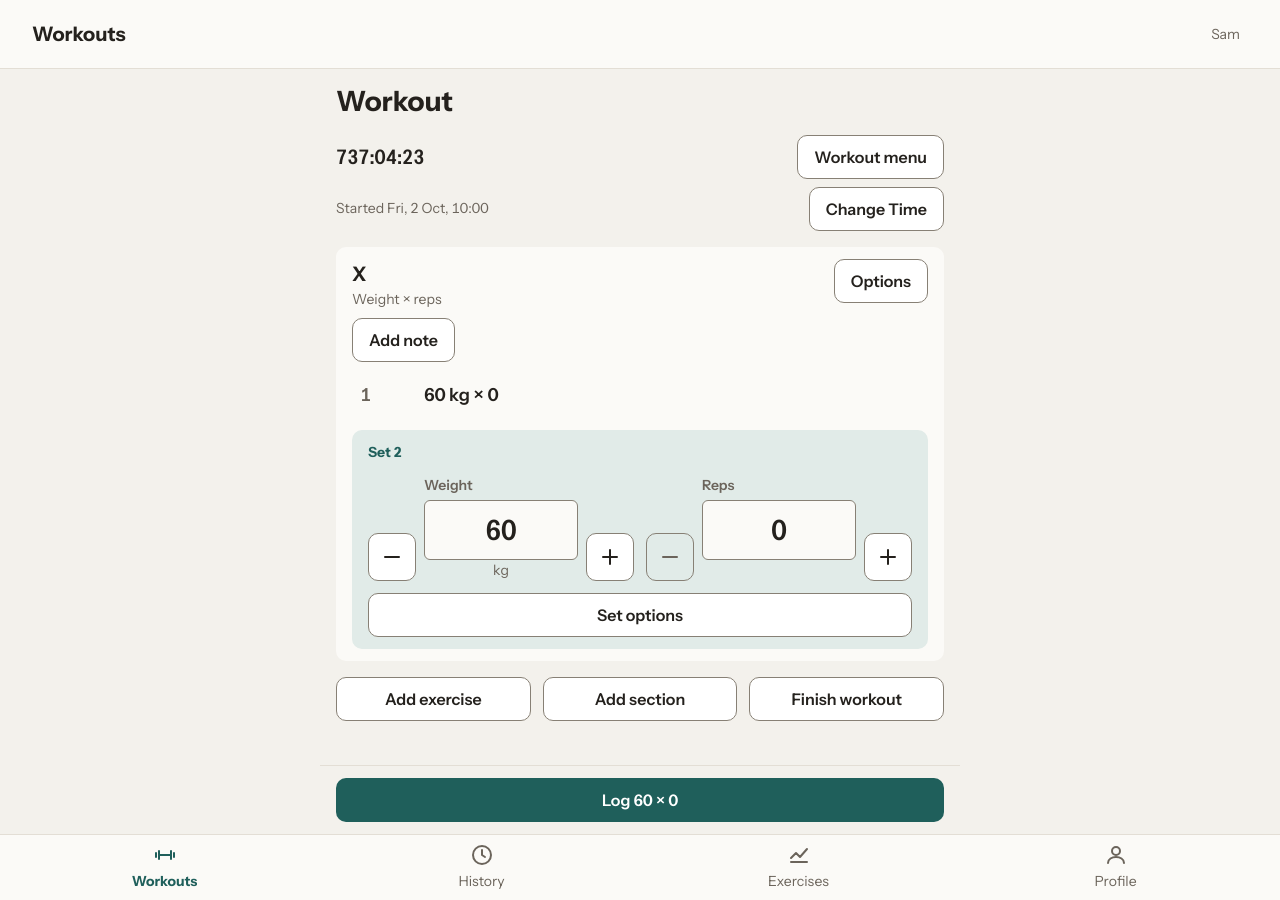
Test: AC27 — 409 incomplete-working-sets › a set with reps: 0 is never flagged
Check: the heading "Workout" is shown, box [336,84,453,118]
Click the button "Finish workout": (847, 699) [749,677,944,721]
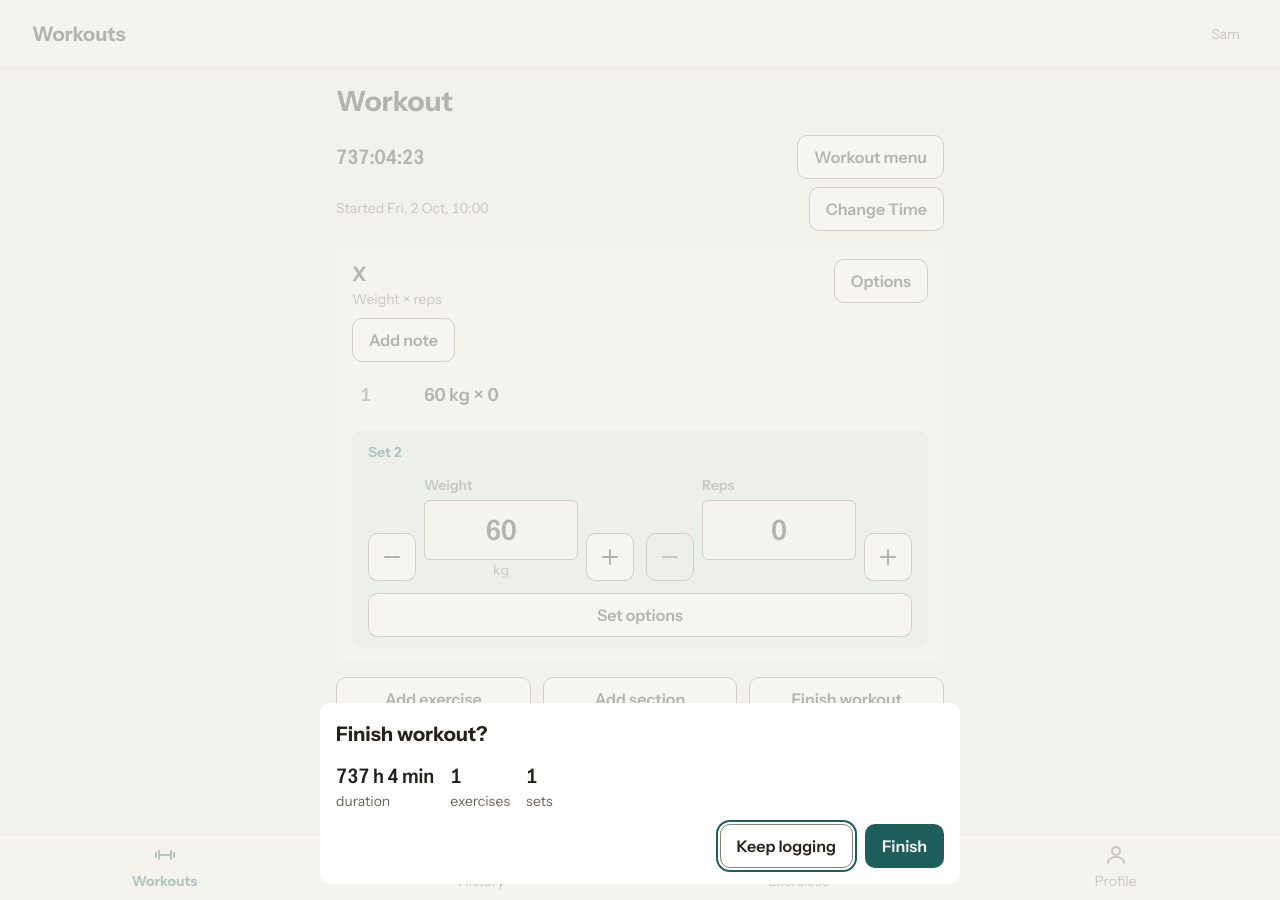
Click the button "Finish": (904, 846) [865,824,944,868]
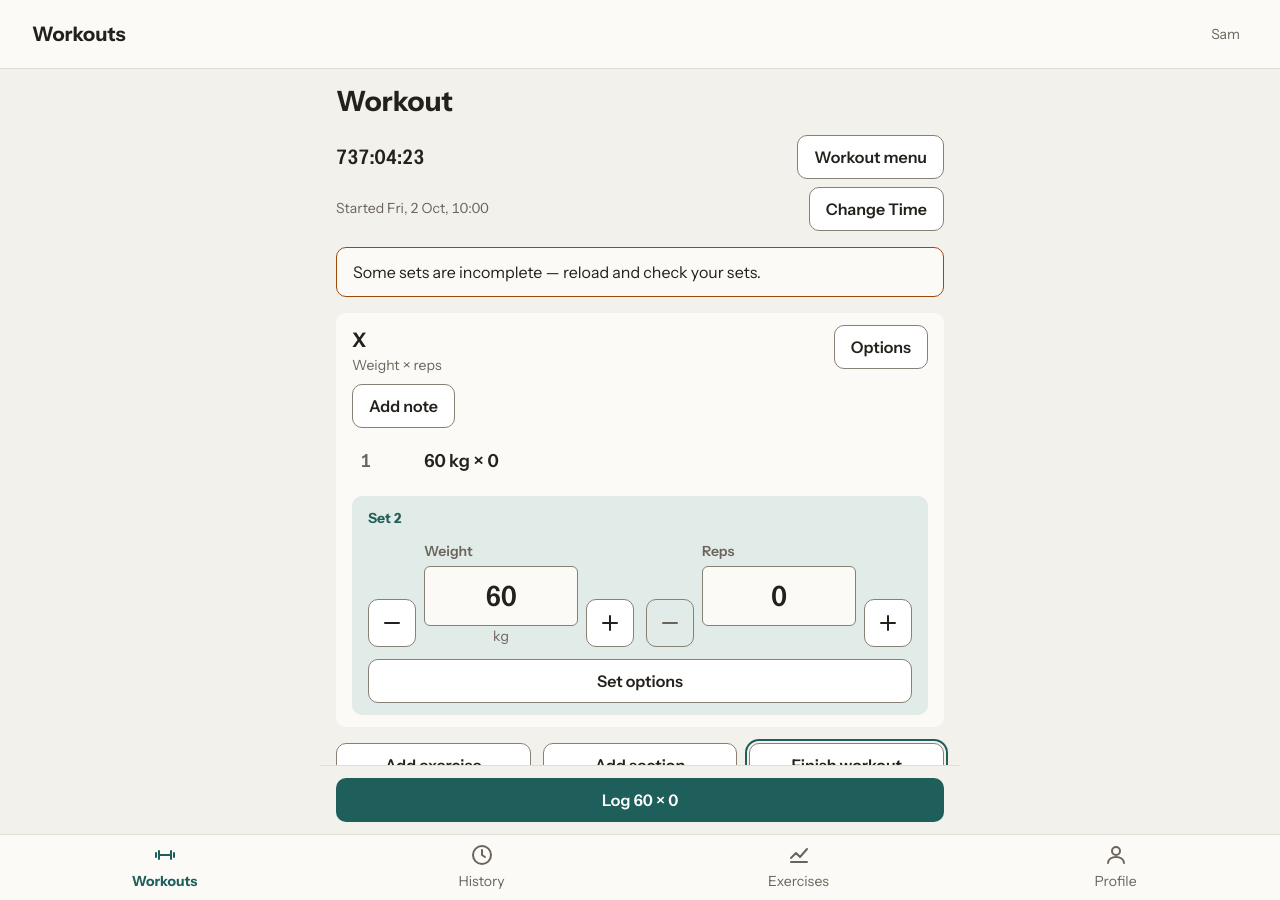
Check: the button "Finish workout" is enabled, box [749,743,944,787]
Check: the message reads "Some sets are incomplete — reload and check your sets.", box [353,262,761,282]
